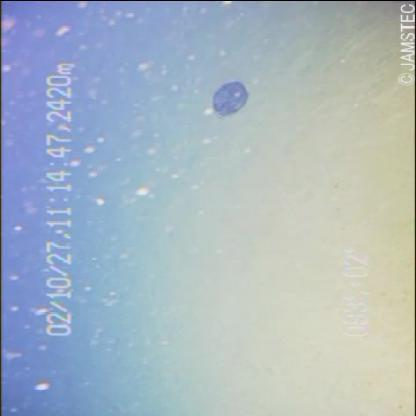Rác: (198, 61, 262, 127)
